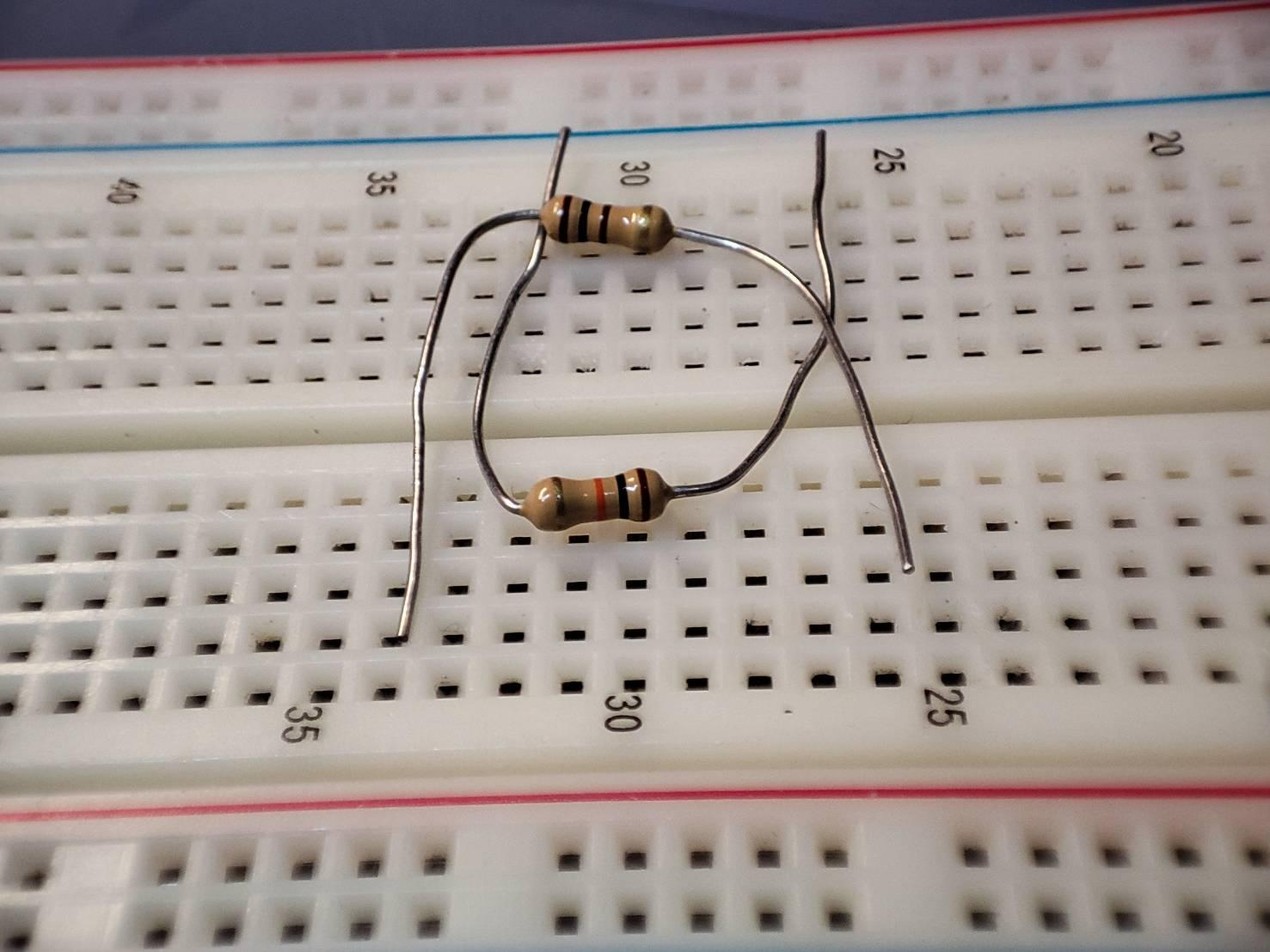resistor: (523, 469, 670, 530)
